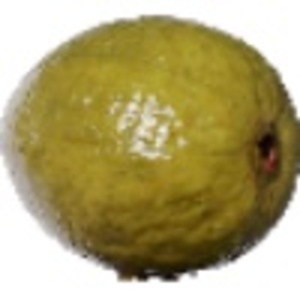goiaba: (6, 14, 300, 272)
